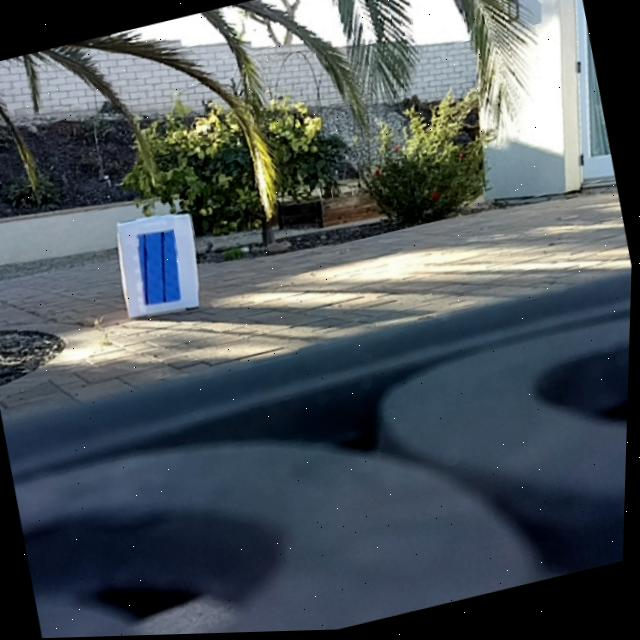led: (138, 231, 186, 313)
